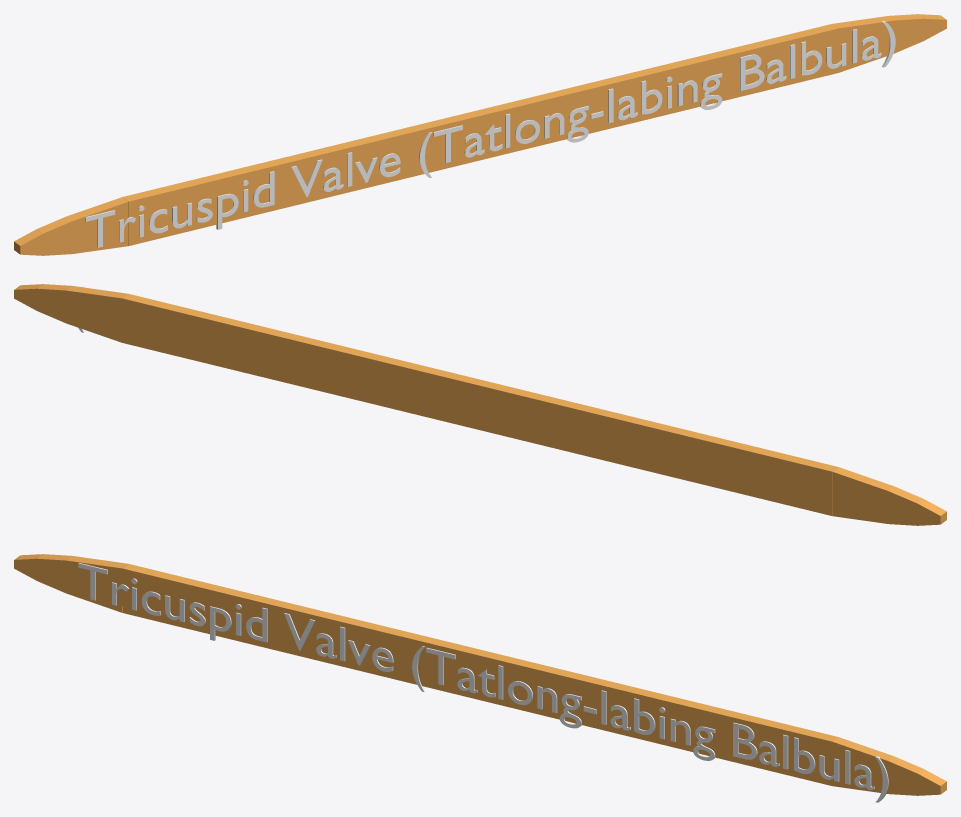
The model's file is txtTricuspidValve.fbx.
3 views of the same model, one above another, from view 1: azimuth 30°, elevation 25°; view 2: azimuth 150°, elevation 25°; view 3: azimuth 330°, elevation 25° (orthographic).
Parts seen in each view (by area): view 1: TagContainer.102, Text.104; view 2: TagContainer.102; view 3: TagContainer.102, Text.104.
Part boxes in pixels (left/top/right/bottom): TagContainer.102: left=14, top=14, right=946, bottom=255; Text.104: left=85, top=21, right=895, bottom=247; TagContainer.102: left=14, top=284, right=946, bottom=525; TagContainer.102: left=14, top=554, right=946, bottom=795; Text.104: left=78, top=563, right=888, bottom=802.
Bounding box in the file's own units: 900 × 45.81 × 11.84.
